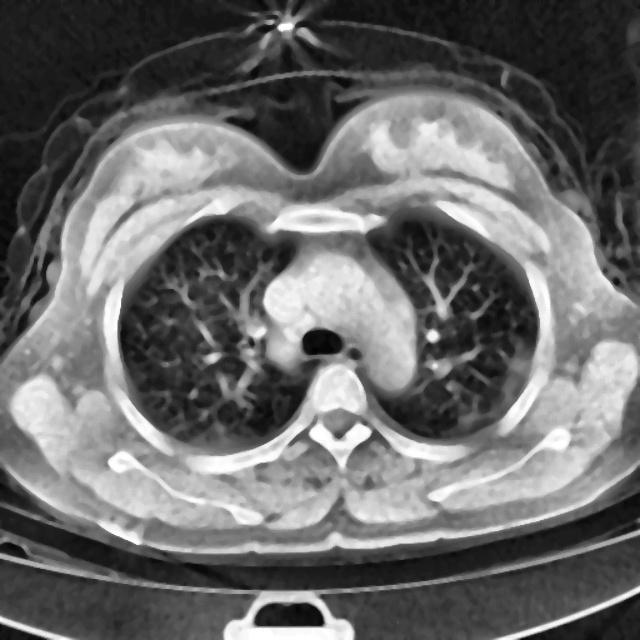covid: (0, 11, 638, 569)
